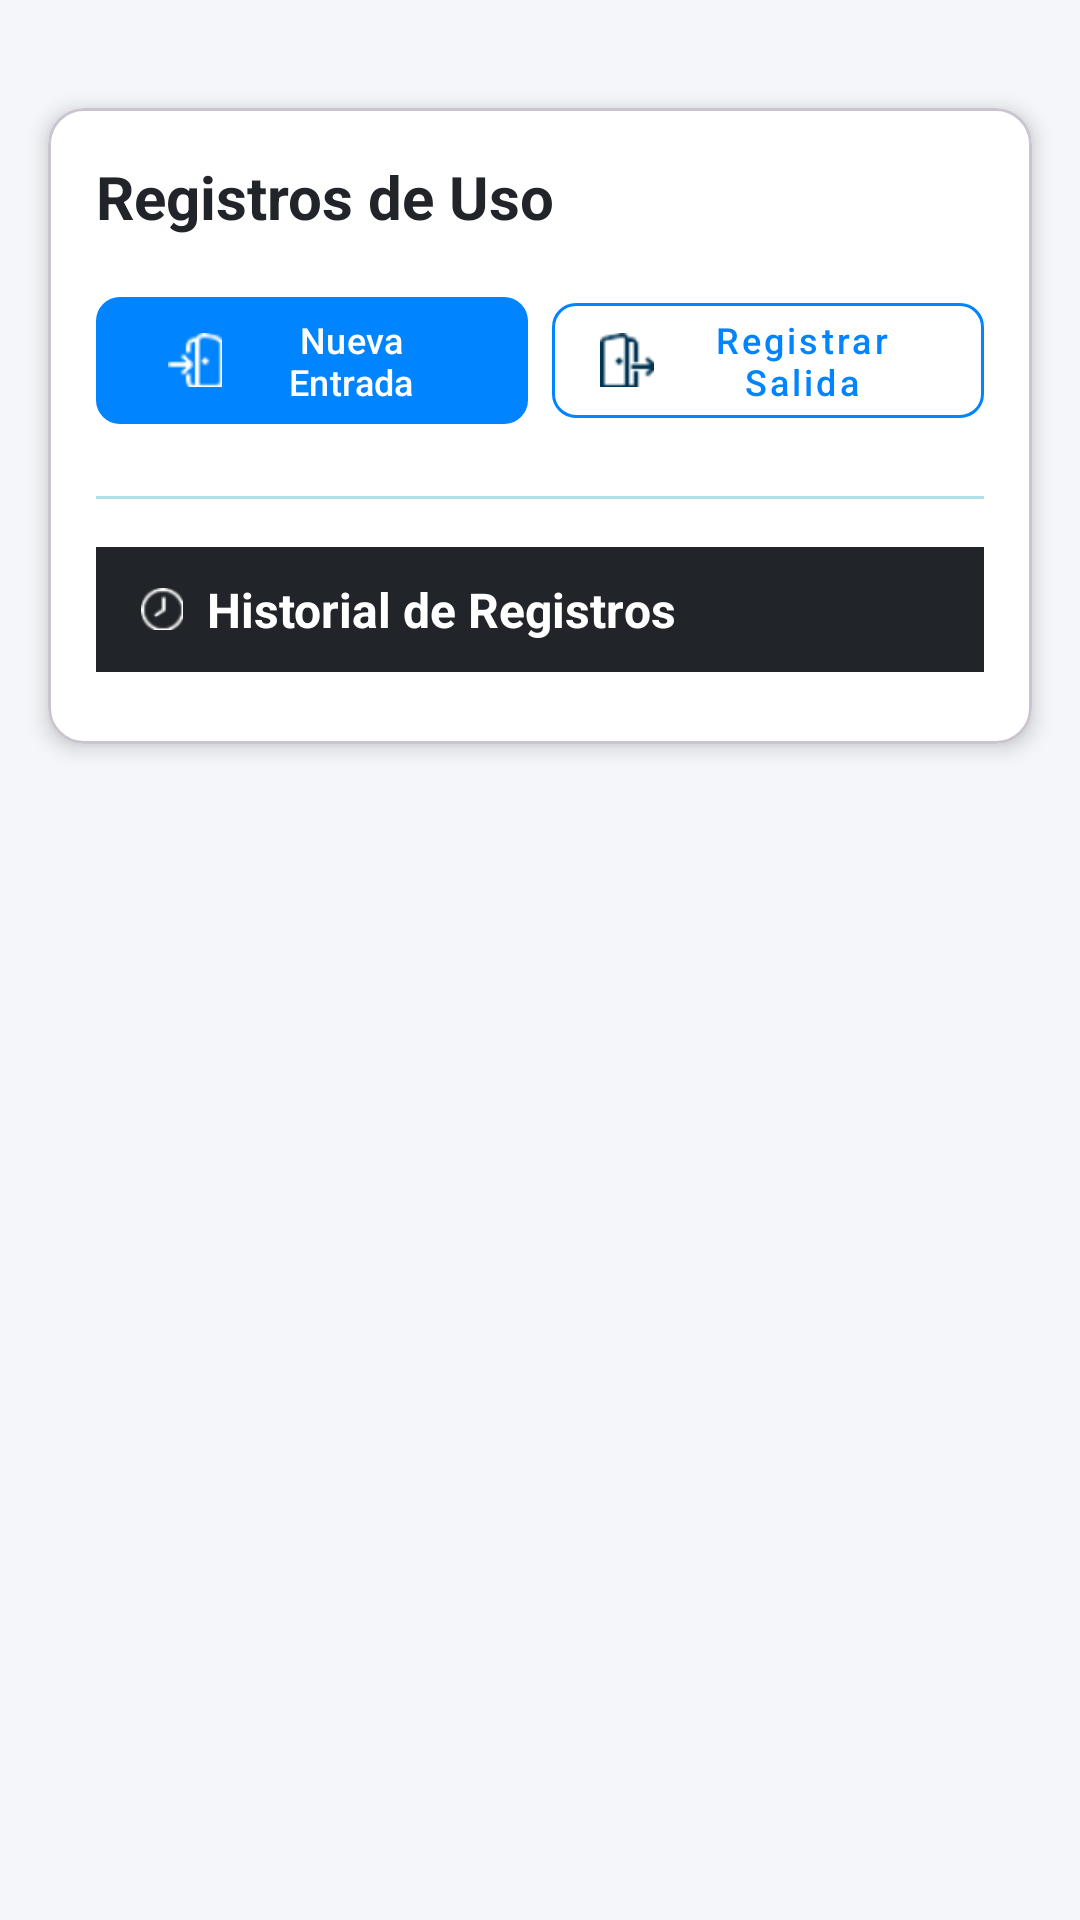

Point at icon controls on the screen. Image size 1080 x 1920, points as [x,y].
reloj: [162,609]
